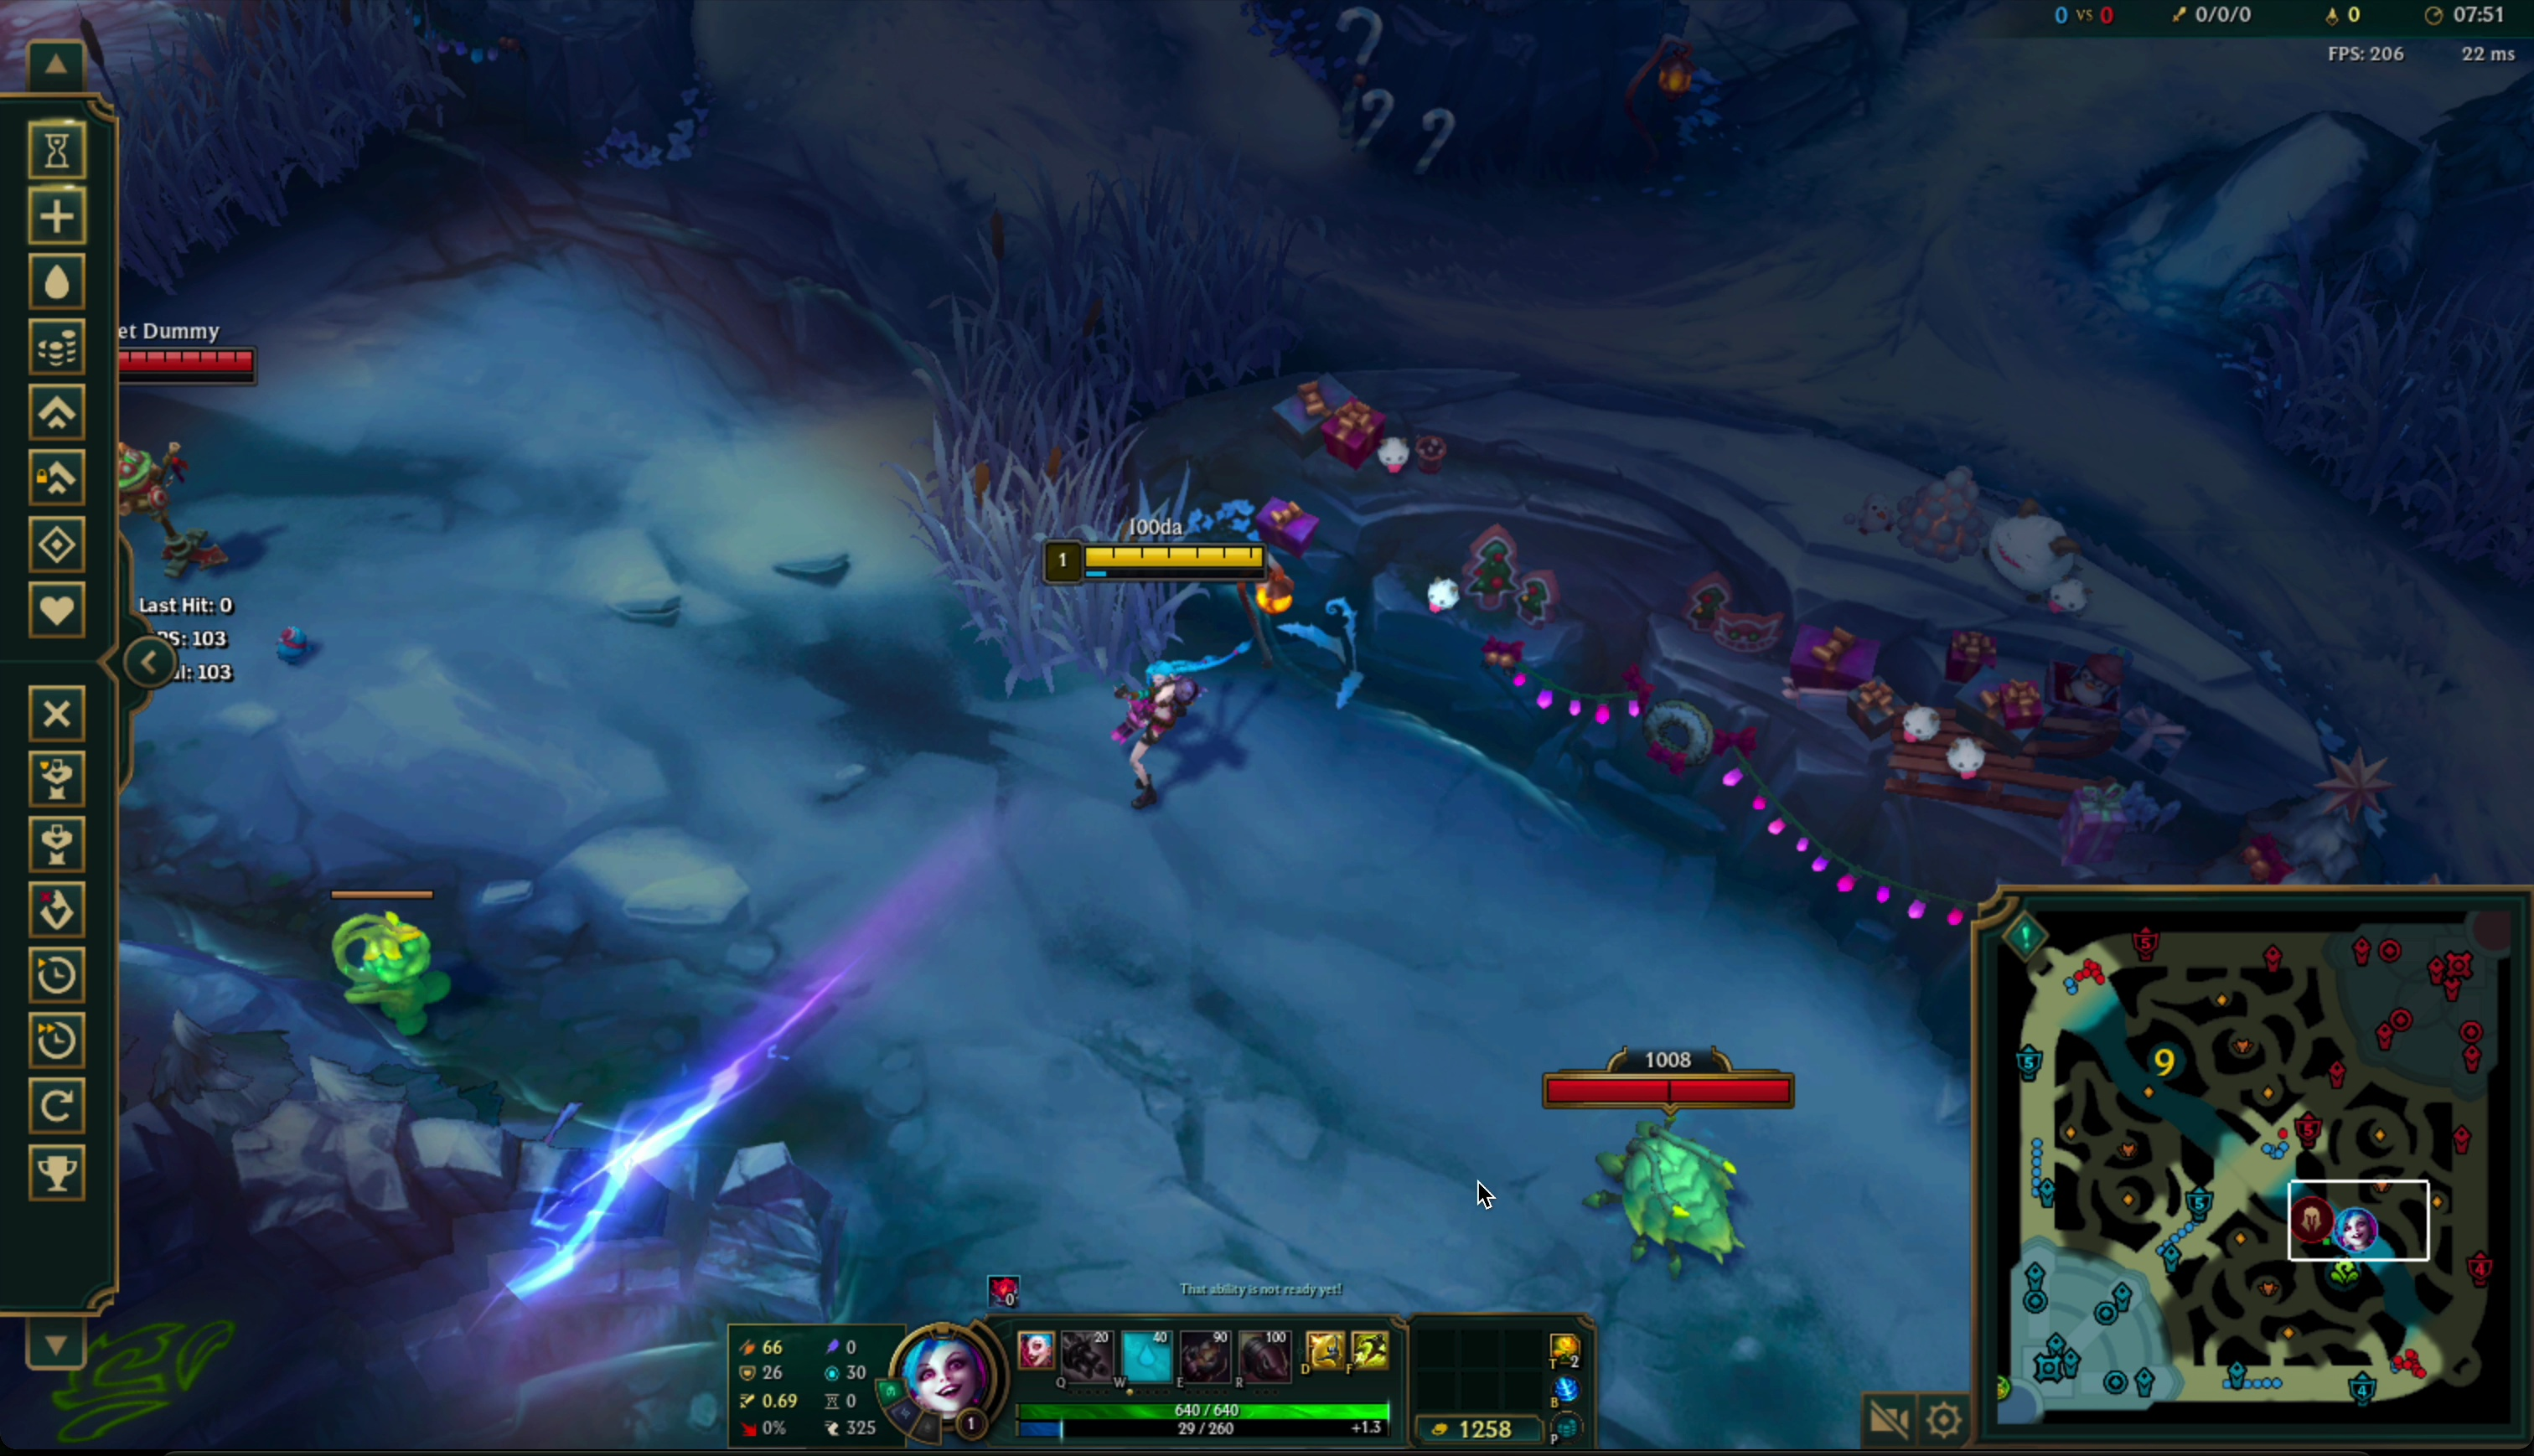JINX_W_PROJECTILE: (505, 750, 1001, 1315)
